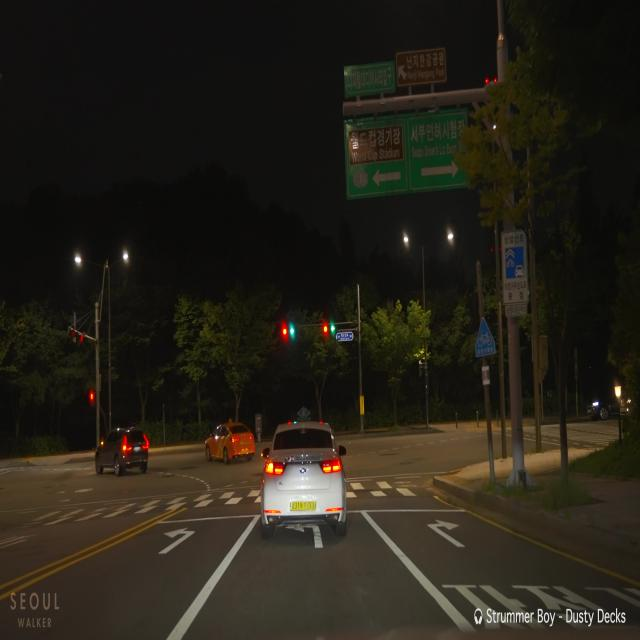Red Light: (282, 328, 287, 335), (323, 326, 328, 332)
